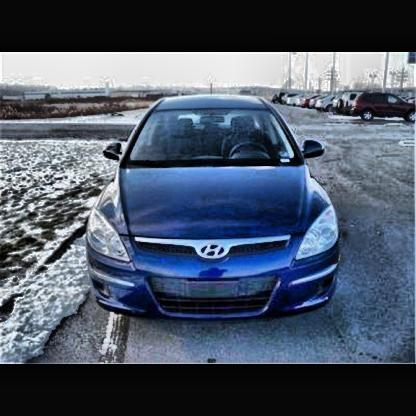Hyundai Elantra Touring Hatchback 2012: (84, 93, 344, 326)
